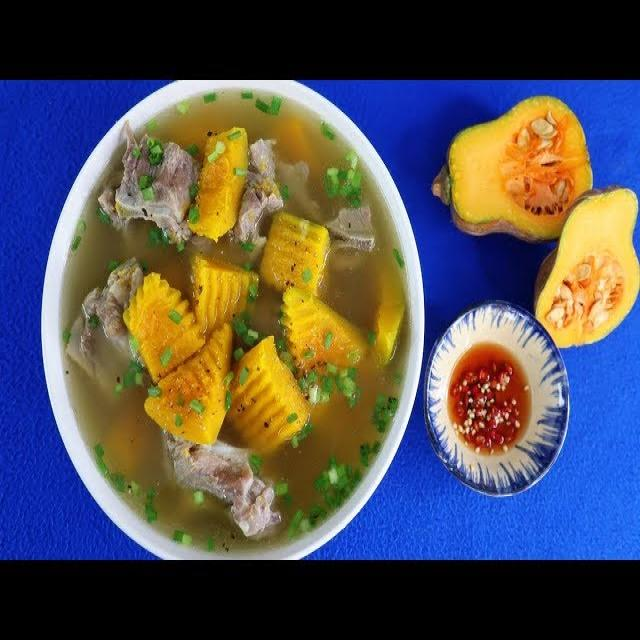canh bi do: (63, 91, 410, 551)
nuoc mam: (449, 345, 527, 452)
